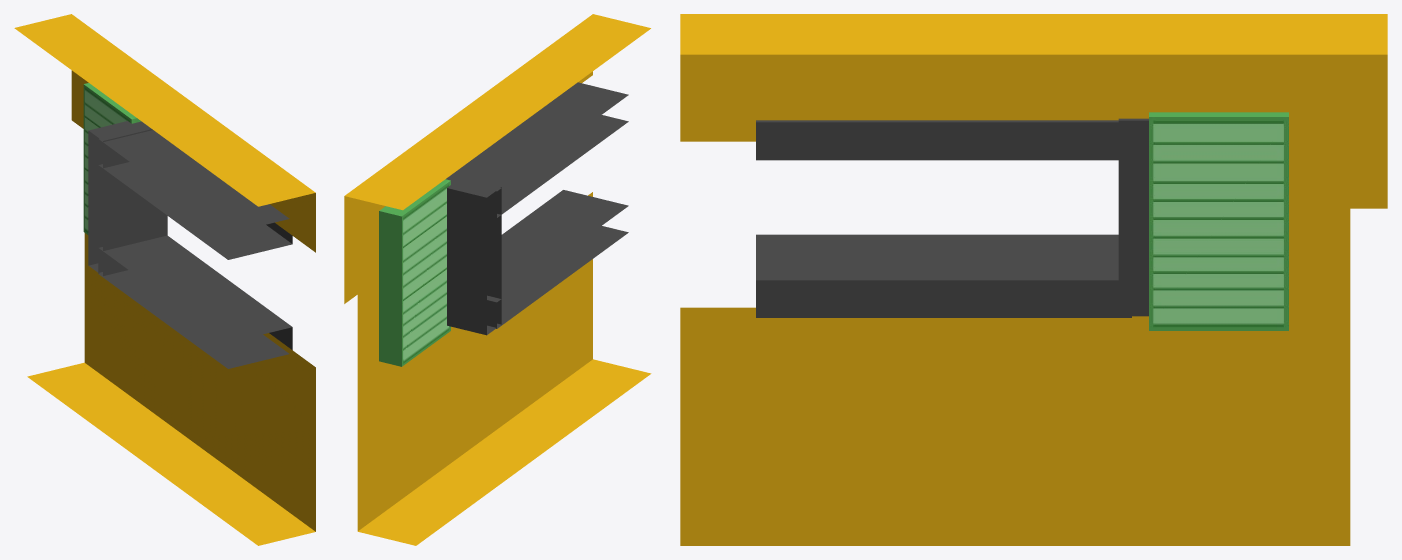
The model's file is SHUTTER7.obj.
The picture shows the model from 3 angles, left to right: view 1: azimuth 30°, elevation 25°; view 2: azimuth 150°, elevation 25°; view 3: azimuth 270°, elevation 25°; orthographic projection. The views are drawn at different scales.
Visible parts, largest first — view 1: user; view 2: user; view 3: user.
Boxes of the visible parts, bbox=[...] form: user: bbox=[14, 14, 315, 545]; user: bbox=[344, 14, 651, 545]; user: bbox=[680, 14, 1387, 545].
Bounding box in the file's own units: 27.33 × 129 × 169.
4 materials, 4 textured.
